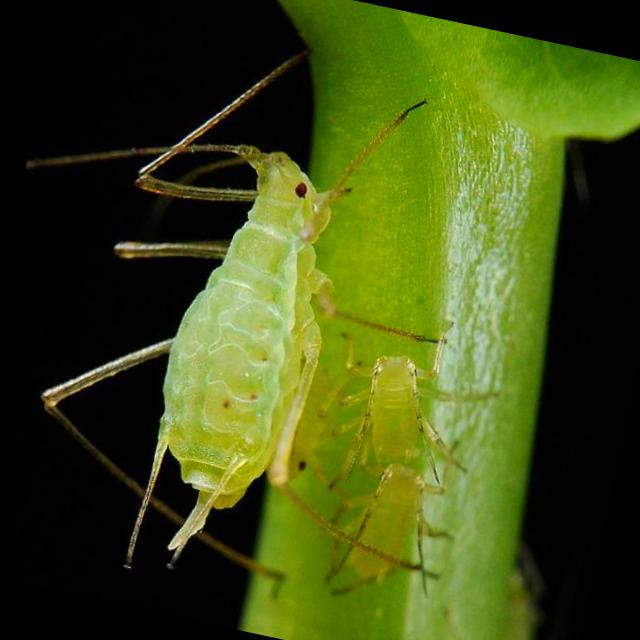Aphids: (5, 24, 410, 604), (304, 450, 464, 638), (307, 324, 479, 490)
